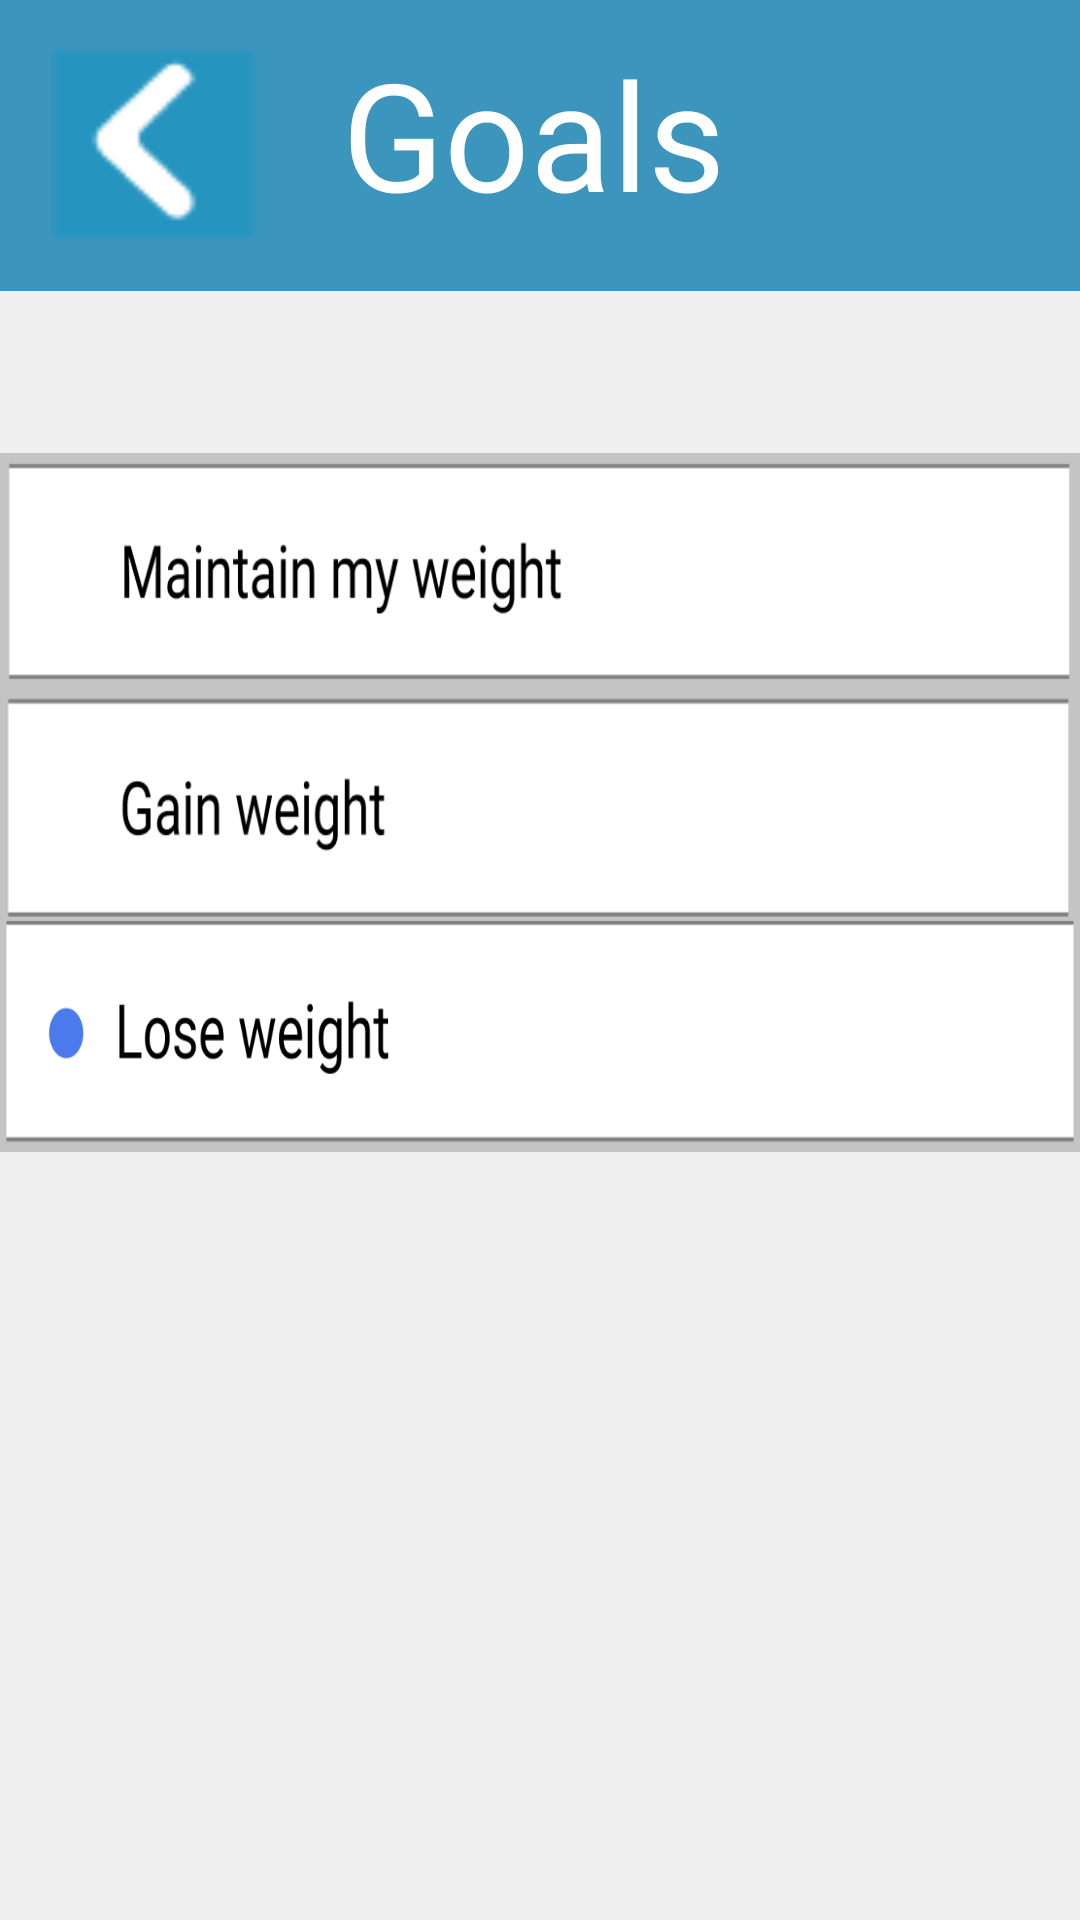

Named icons in this screenshot (1080×1920) and their bounding boxes, [x1=x1, y1=y1, x2=x2, y2=y2]:
backarrow: [x1=51, y1=51, x2=255, y2=237]
